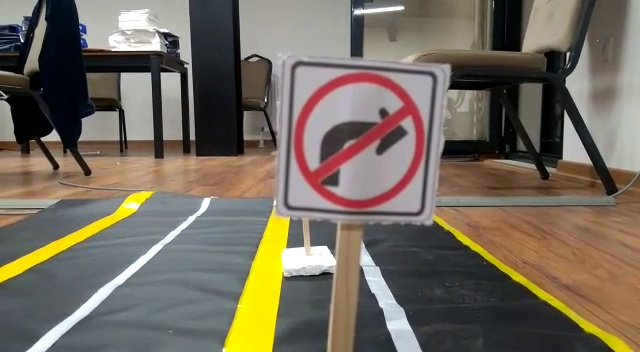saga_donulmez: (287, 58, 433, 217)
